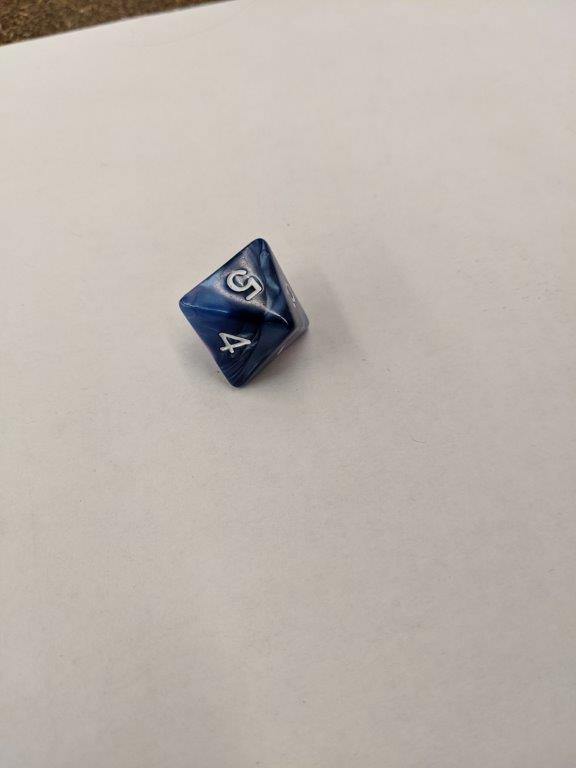d8-5: (181, 235, 312, 387)
